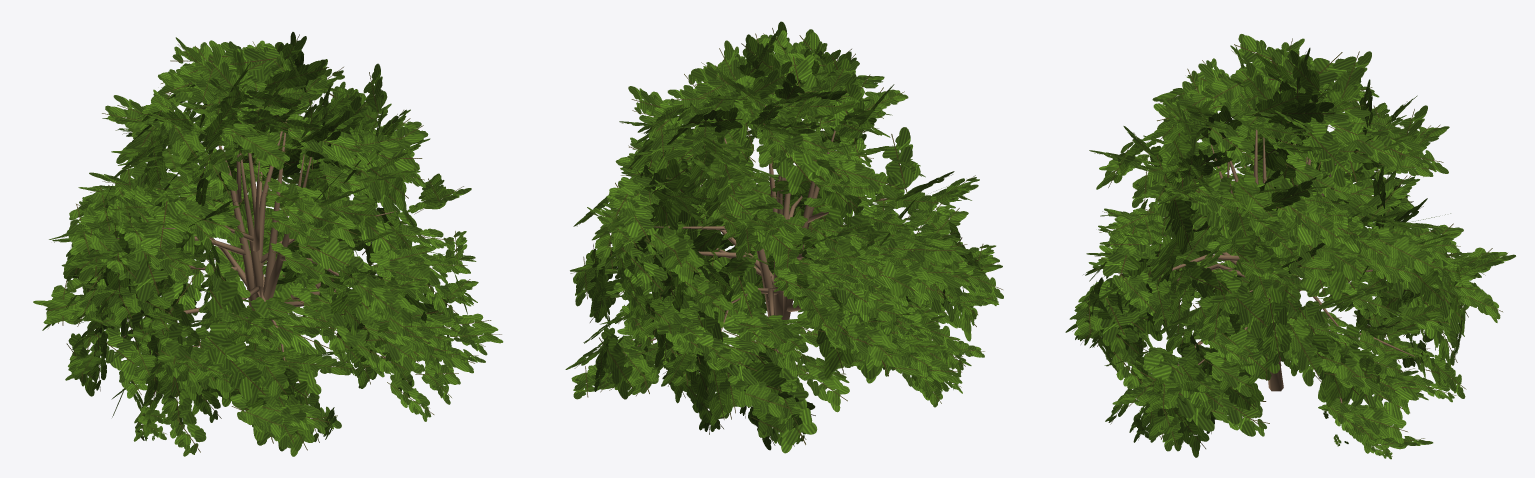
Rendered from near.glb.
3 views of the same model, side by side, from view 1: azimuth 30°, elevation 25°; view 2: azimuth 150°, elevation 25°; view 3: azimuth 270°, elevation 25° (orthographic).
Parts seen in each view (by area): view 1: foliage, bark; view 2: foliage, bark; view 3: foliage, bark.
Boxes of the visible parts, x1,y1,x2,y2 form: foliage: [33, 32, 503, 456]; bark: [117, 119, 396, 394]; foliage: [565, 21, 1003, 453]; bark: [637, 105, 888, 352]; foliage: [1065, 34, 1515, 459]; bark: [1162, 129, 1414, 403].
Bounding box in the file's own units: 13.09 × 10.5 × 13.
Materials: 2 (1 with a texture image).
